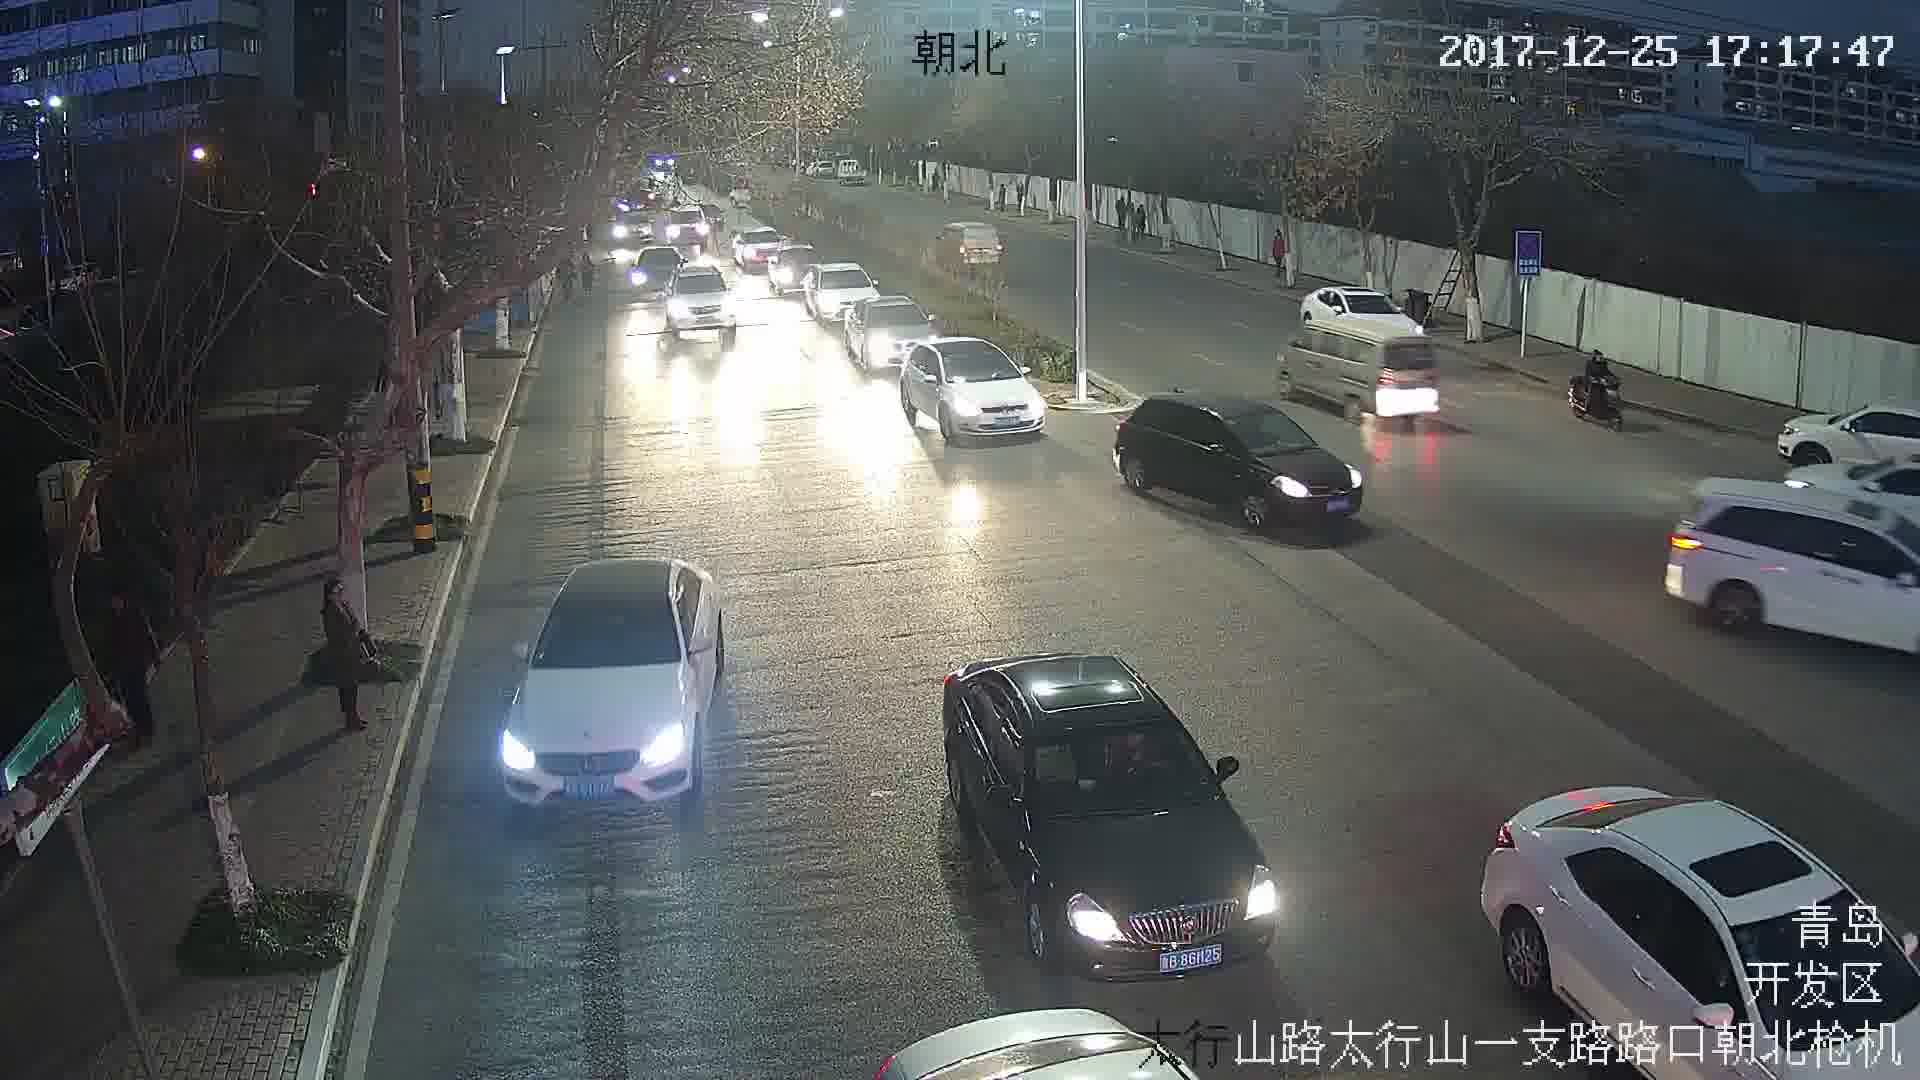car: (941, 649, 1275, 963), (498, 566, 723, 802), (1121, 392, 1363, 528), (1277, 320, 1442, 420), (891, 335, 1045, 441), (1305, 280, 1430, 349), (841, 302, 946, 370), (667, 266, 743, 342), (934, 223, 998, 275)
person: (316, 582, 387, 728), (1582, 344, 1617, 406)
